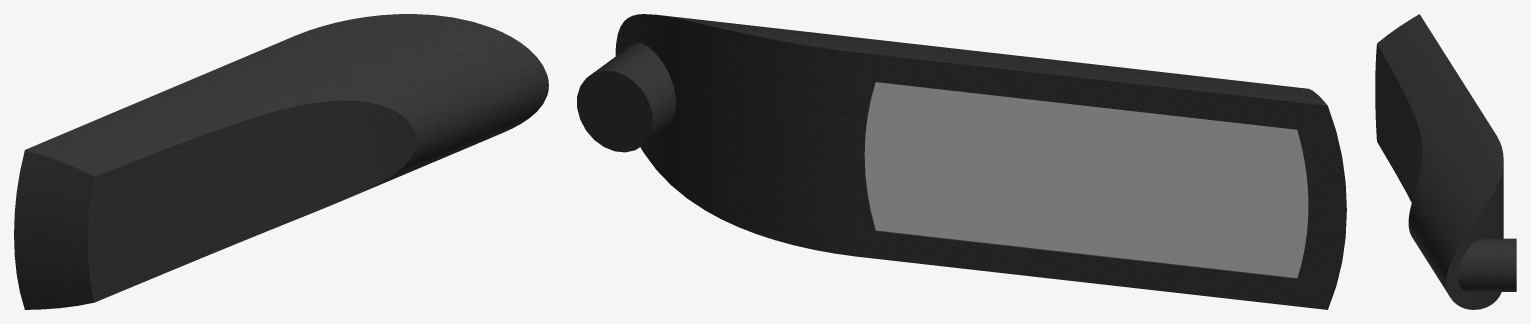
The model's file is Viatana.obj.
The picture shows the model from 3 angles, left to right: view 1: azimuth 30°, elevation 25°; view 2: azimuth 150°, elevation 25°; view 3: azimuth 270°, elevation 25°; orthographic projection. The views are drawn at different scales.
Parts seen in each view (by area): view 1: Trilux_Viatana_POLYFACE.014; view 2: Trilux_Viatana_POLYFACE.014; view 3: Trilux_Viatana_POLYFACE.014.
Part boxes in pixels (box(x1,y1,x2,y2)): Trilux_Viatana_POLYFACE.014: box(14, 14, 548, 309); Trilux_Viatana_POLYFACE.014: box(577, 14, 1346, 309); Trilux_Viatana_POLYFACE.014: box(1375, 14, 1516, 309).
Bounding box in the file's own units: 0.8329 × 0.2299 × 0.2362.
3 materials, 2 textured.
